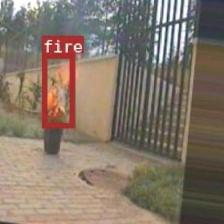fire: (41, 52, 74, 127)
